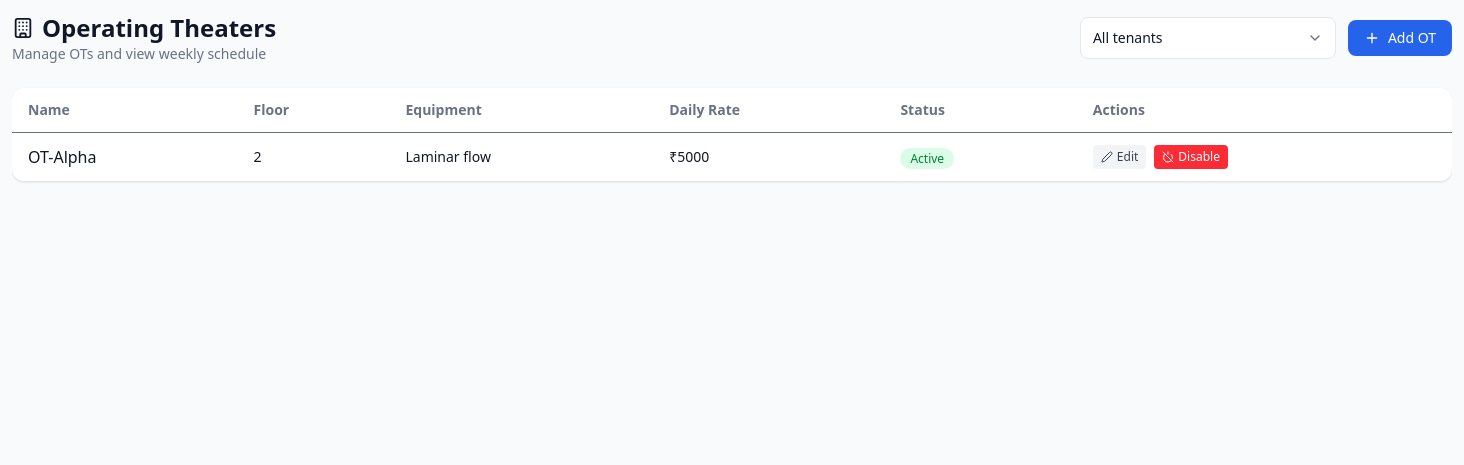
OT (Operating Theatres) dashboard page › settles the week pane to an empty grid when the schedule fetch rejects
Click the text "OT-Alpha".
click(62, 157)  # box [12, 132, 1452, 181]
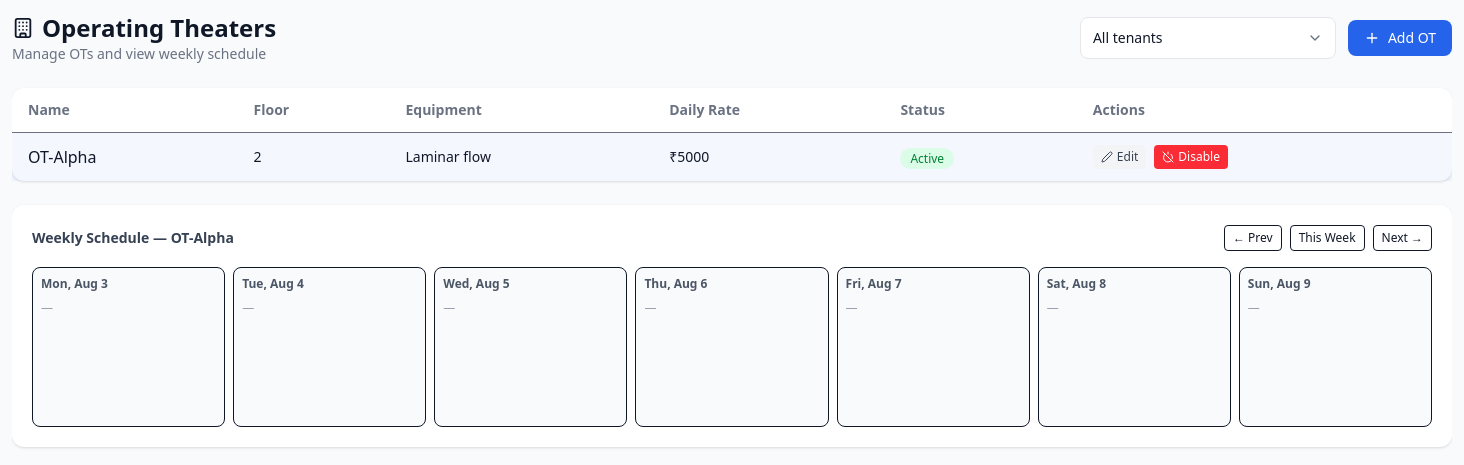
Now the heading "Weekly Schedule — OT-Alpha" is shown, box [32, 228, 234, 248]
